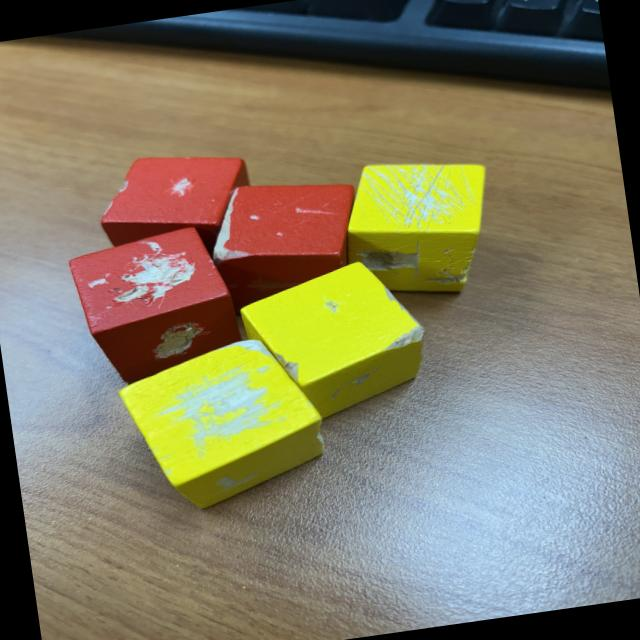broken: (112, 330, 333, 520), (234, 254, 436, 429), (65, 219, 248, 392), (332, 148, 502, 308), (202, 172, 370, 316), (92, 144, 260, 274)
